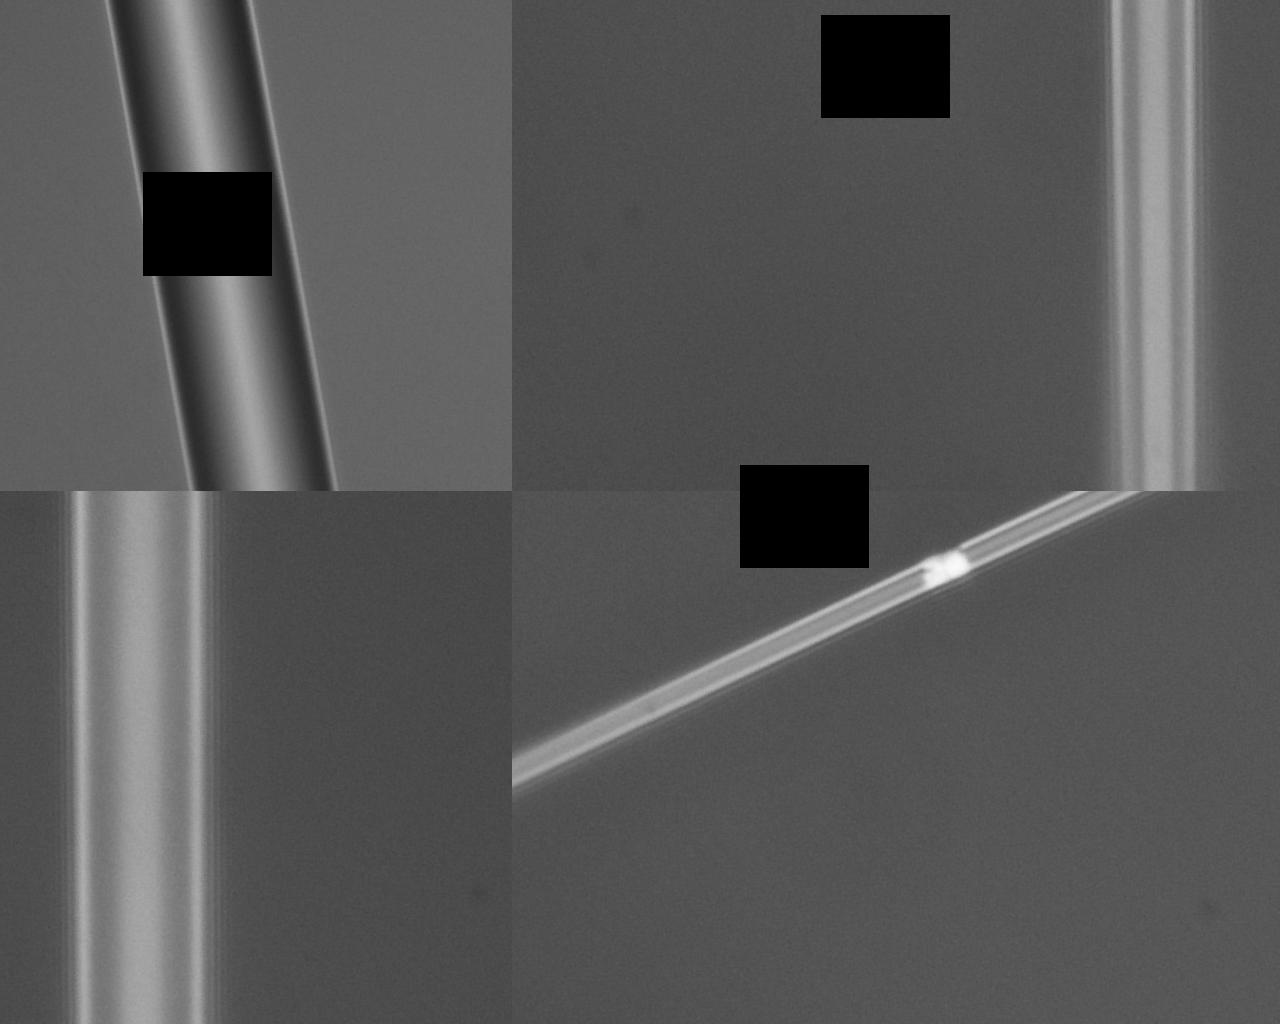fiber: (128, 565, 1152, 670)
